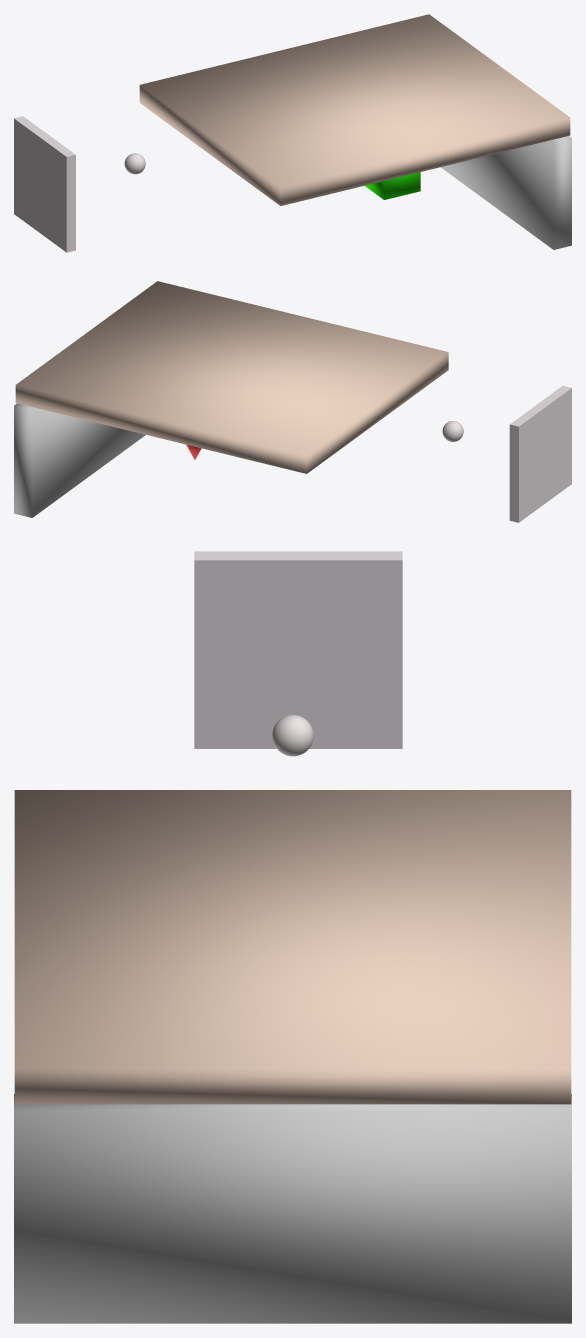
The picture shows the model from 3 angles, top to bottom: view 1: azimuth 30°, elevation 25°; view 2: azimuth 150°, elevation 25°; view 3: azimuth 270°, elevation 25°; orthographic projection. The views are drawn at different scales.
Visible parts, largest first — view 1: Cube.001, Cube.002, Cube_Cube.003, Cube.001.000, Sphere; view 2: Cube.001, Cube.002, Cube_Cube.003, Sphere; view 3: Cube.001, Cube.002, Cube_Cube.003, Sphere.
Part boxes in pixels (<box>): Cube.001: <box>139,14,570,205</box>; Cube.002: <box>441,136,571,249</box>; Cube_Cube.003: <box>14,116,75,252</box>; Cube.001.000: <box>365,172,420,199</box>; Sphere: <box>124,153,145,174</box>; Cube.001: <box>15,281,448,473</box>; Cube.002: <box>14,403,145,517</box>; Cube_Cube.003: <box>509,385,571,522</box>; Sphere: <box>442,421,463,441</box>; Cube.001: <box>14,790,571,1104</box>; Cube.002: <box>14,1094,571,1323</box>; Cube_Cube.003: <box>194,551,402,748</box>; Sphere: <box>272,715,313,756</box>.
Bounding box in the file's own units: 5023 × 1747 × 2678.
